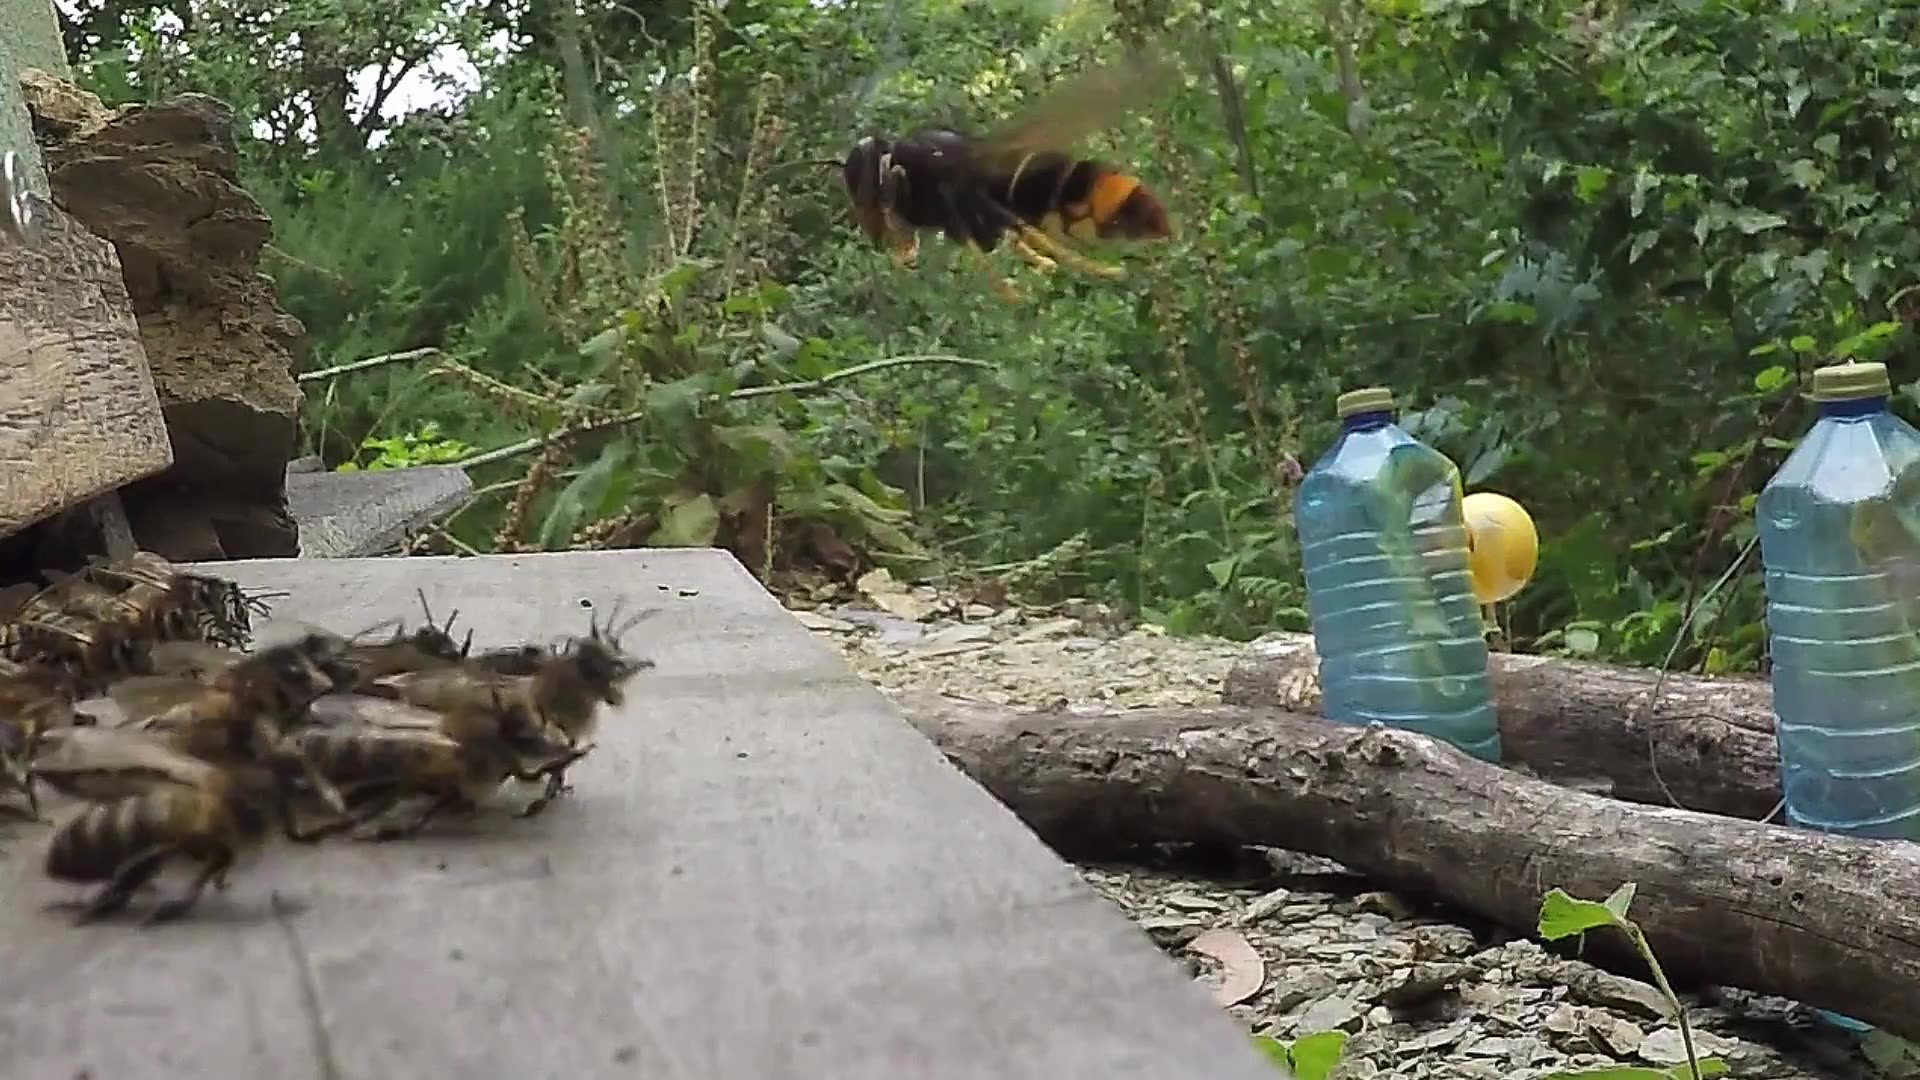bee: (291, 617, 658, 837), (26, 691, 310, 913), (11, 531, 270, 680)
hornet: (829, 104, 1170, 285)
